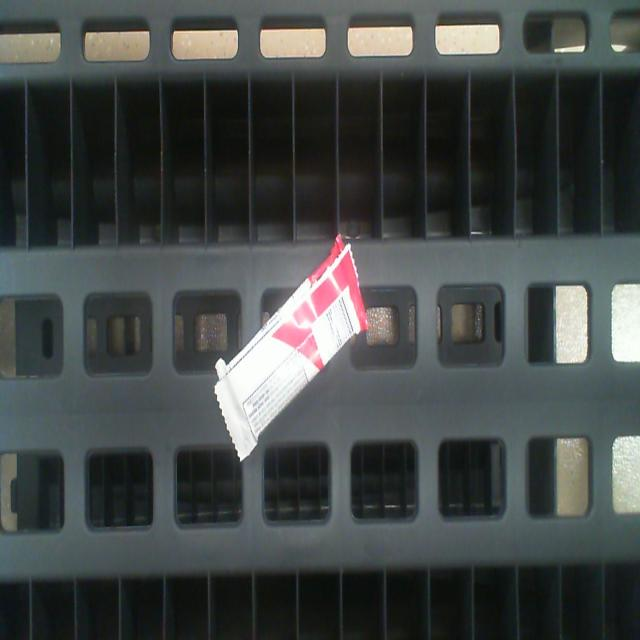snack: (226, 242, 368, 445)
